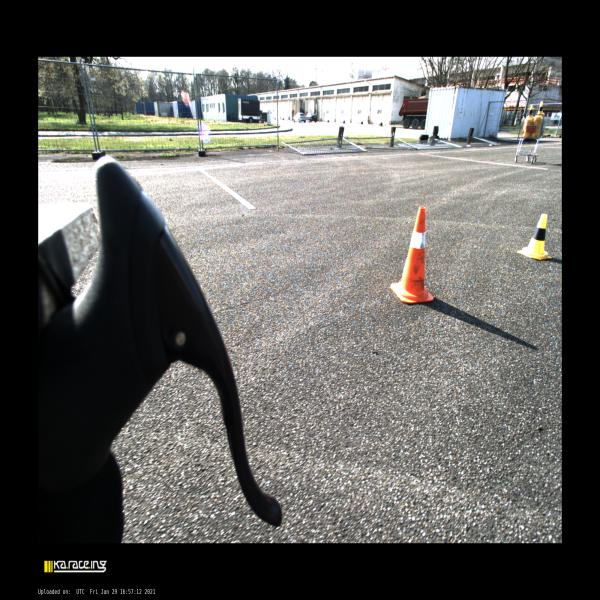large_orange_cone: (390, 205, 434, 305)
yellow_cone: (517, 212, 552, 260), (526, 104, 534, 119), (537, 100, 544, 114)
